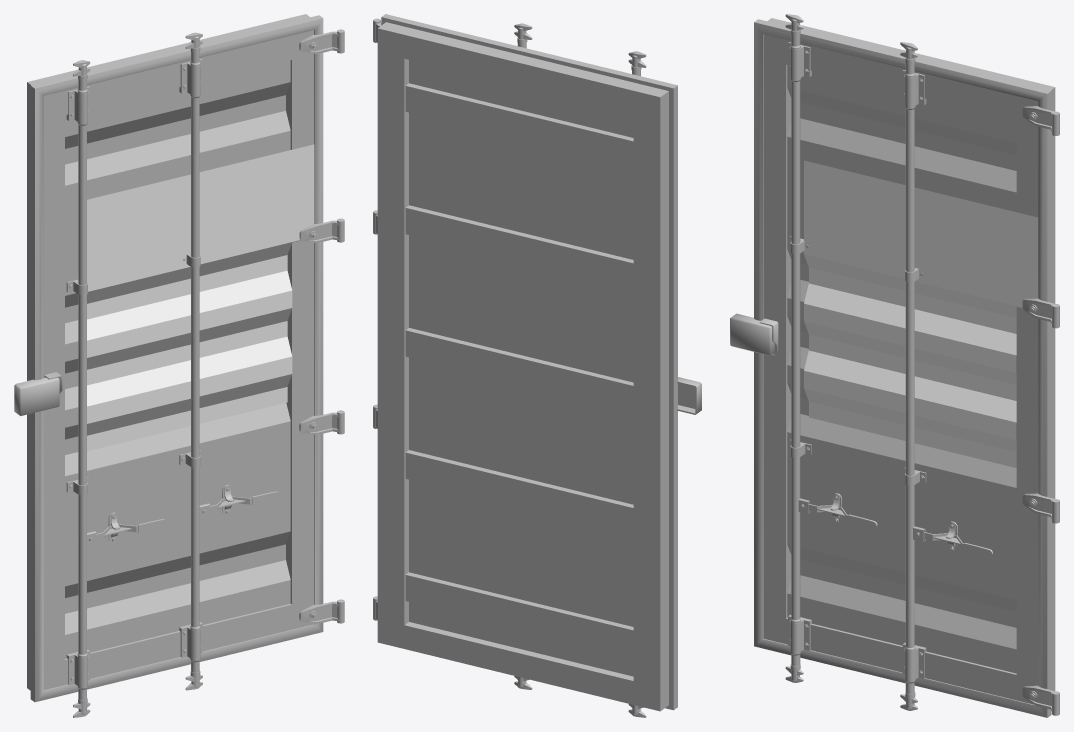
File: ContainerDoorR.FBX
The picture shows the model from 3 angles, left to right: view 1: azimuth 30°, elevation 25°; view 2: azimuth 150°, elevation 25°; view 3: azimuth 330°, elevation 25°; orthographic projection.
Parts seen in each view (by area): view 1: ContainerDoorR, ContainerDoorRDecal; view 2: ContainerDoorR; view 3: ContainerDoorR, ContainerDoorRDecal.
Boxes of the visible parts, box(x1,y1,x2,y2) form: ContainerDoorR: box(14, 14, 344, 717); ContainerDoorRDecal: box(87, 144, 314, 451); ContainerDoorR: box(373, 14, 701, 717); ContainerDoorR: box(730, 14, 1059, 717); ContainerDoorRDecal: box(804, 160, 1038, 467).
Size of what is drawn, in the model's own units: 260 by 502 by 26.42.
